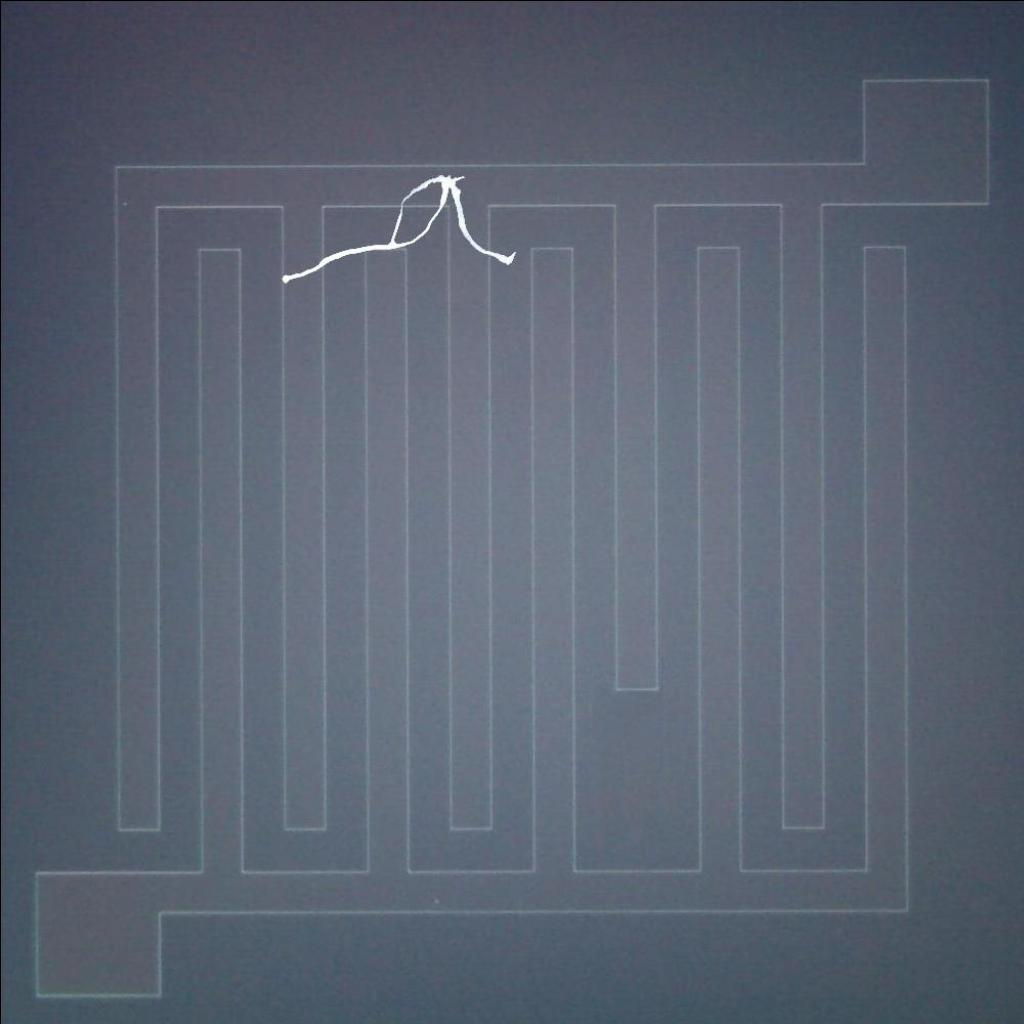line: (274, 164, 520, 293)
